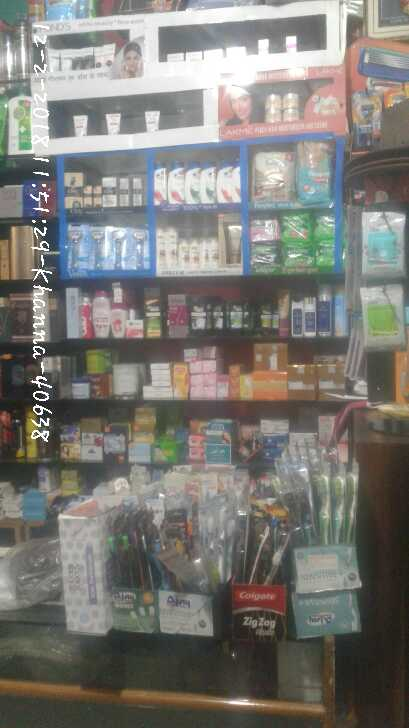venus: (106, 226, 130, 272), (130, 226, 152, 274), (85, 226, 106, 272), (68, 224, 85, 272)
